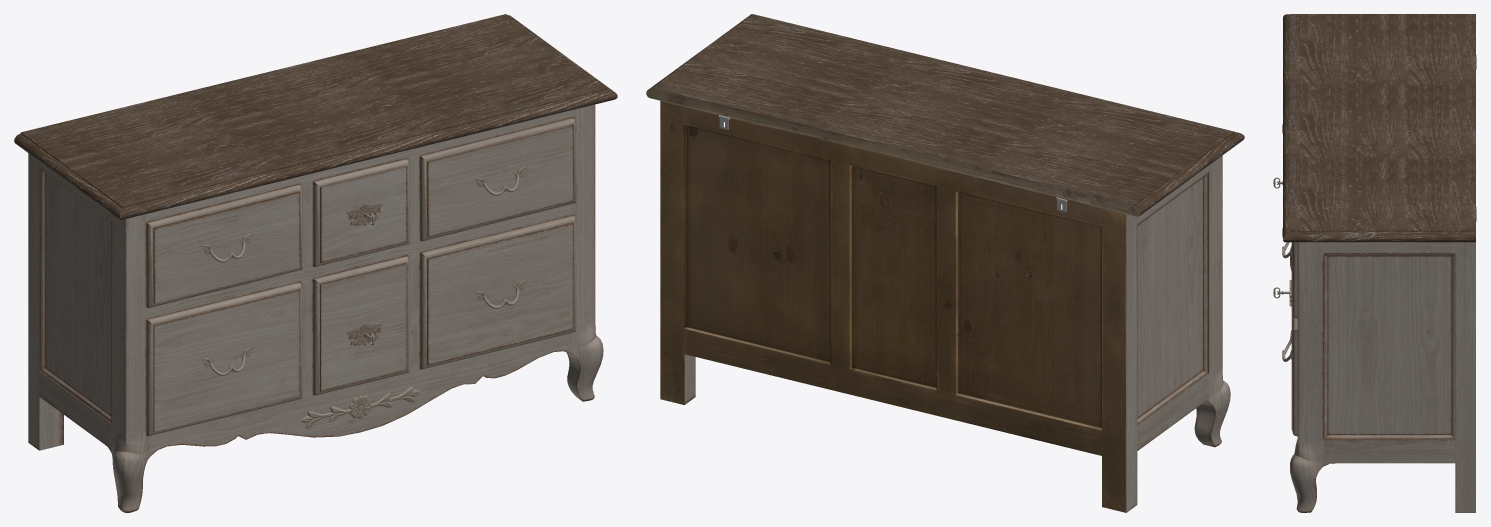
Rendered from example107.glb.
3 views of the same model, side by side, from view 1: azimuth 30°, elevation 25°; view 2: azimuth 150°, elevation 25°; view 3: azimuth 270°, elevation 25° (orthographic). The views are drawn at different scales.
Parts seen in each view (by area): view 1: DPD1.paint_DPD1, DPD1.top; view 2: DPD1.back, DPD1.top, DPD1.paint_DPD1; view 3: DPD1.top, DPD1.paint_DPD1.
Part boxes in pixels (x1,y1,x2,y2): DPD1.paint_DPD1: (28, 104, 603, 512); DPD1.top: (14, 14, 617, 220); DPD1.back: (646, 88, 1140, 512); DPD1.top: (649, 14, 1244, 215); DPD1.paint_DPD1: (684, 155, 1230, 512); DPD1.top: (1283, 14, 1475, 242); DPD1.paint_DPD1: (1273, 124, 1475, 512).
Size of the model in its own units: 1.53 by 0.9159 by 0.5907.
Materials: 4 (3 with a texture image).
